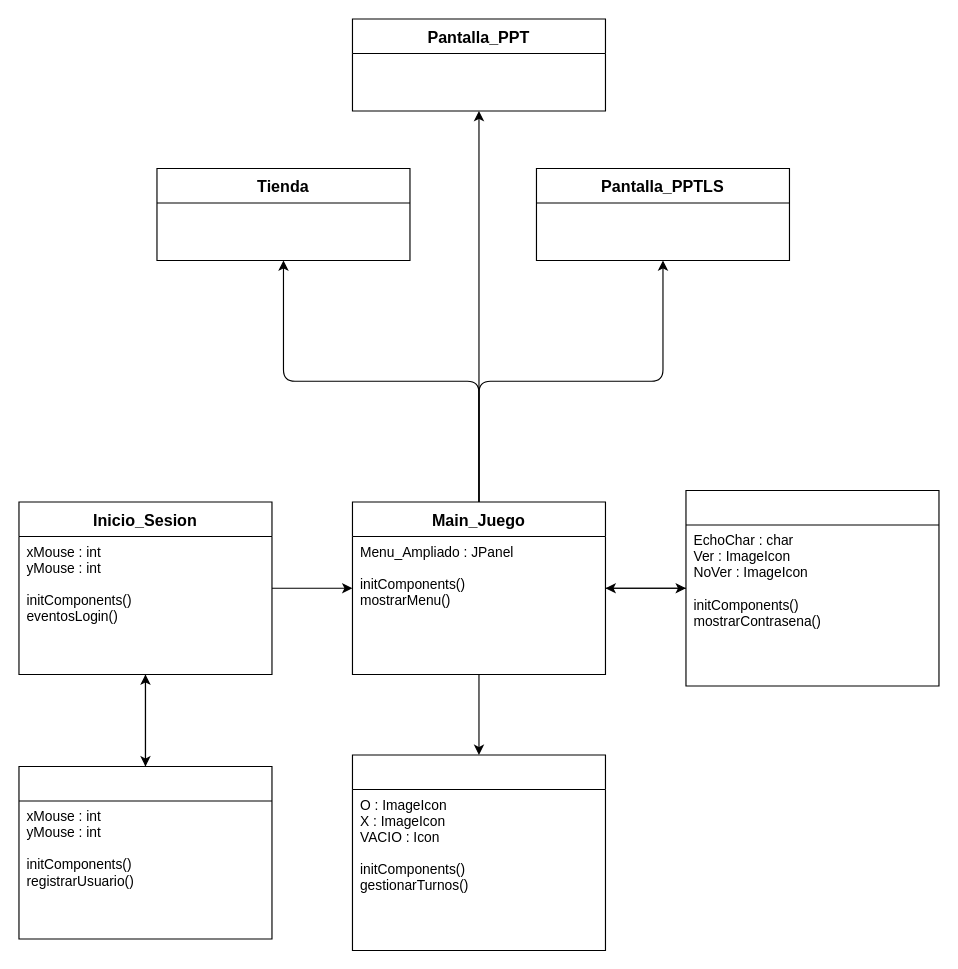
This 958x969 diagram has some shape labels left out. Here are the shapes that lost their labels. From the top down, the box of each, then its label:
(685, 489, 939, 686): Perfil_Usuario
(18, 765, 272, 939): Registro
(351, 754, 605, 950): Pantalla_3EnRaya
